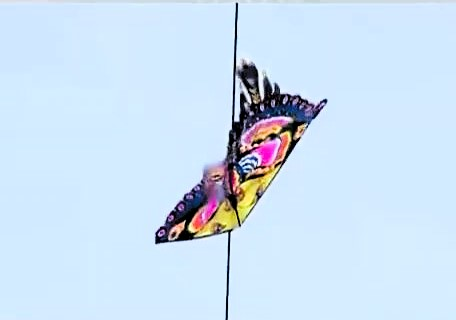wire foreign body: (156, 58, 333, 257)
